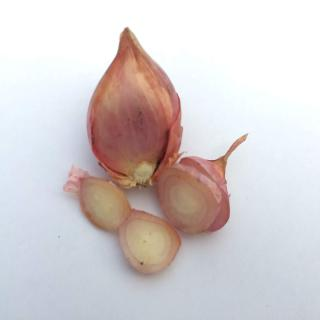Bawang Merah: (64, 27, 249, 275), (87, 27, 185, 190), (158, 133, 249, 235)
